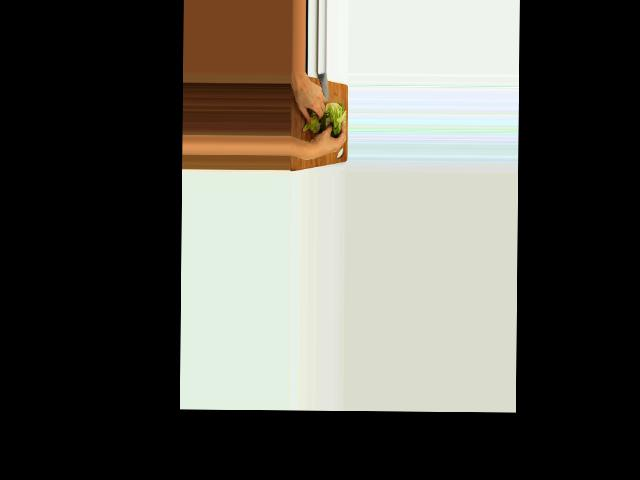lettuce: (322, 101, 345, 135)
